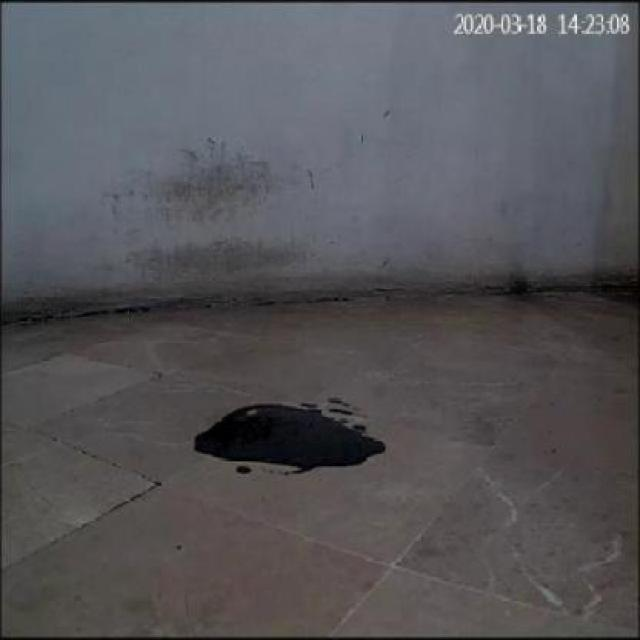spillage: (188, 390, 395, 473)
